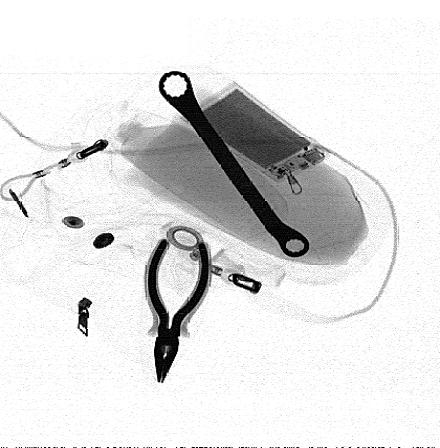Pliers: (143, 235, 209, 385)
Powerbank: (178, 81, 331, 183)
Wrench: (157, 70, 309, 259)
